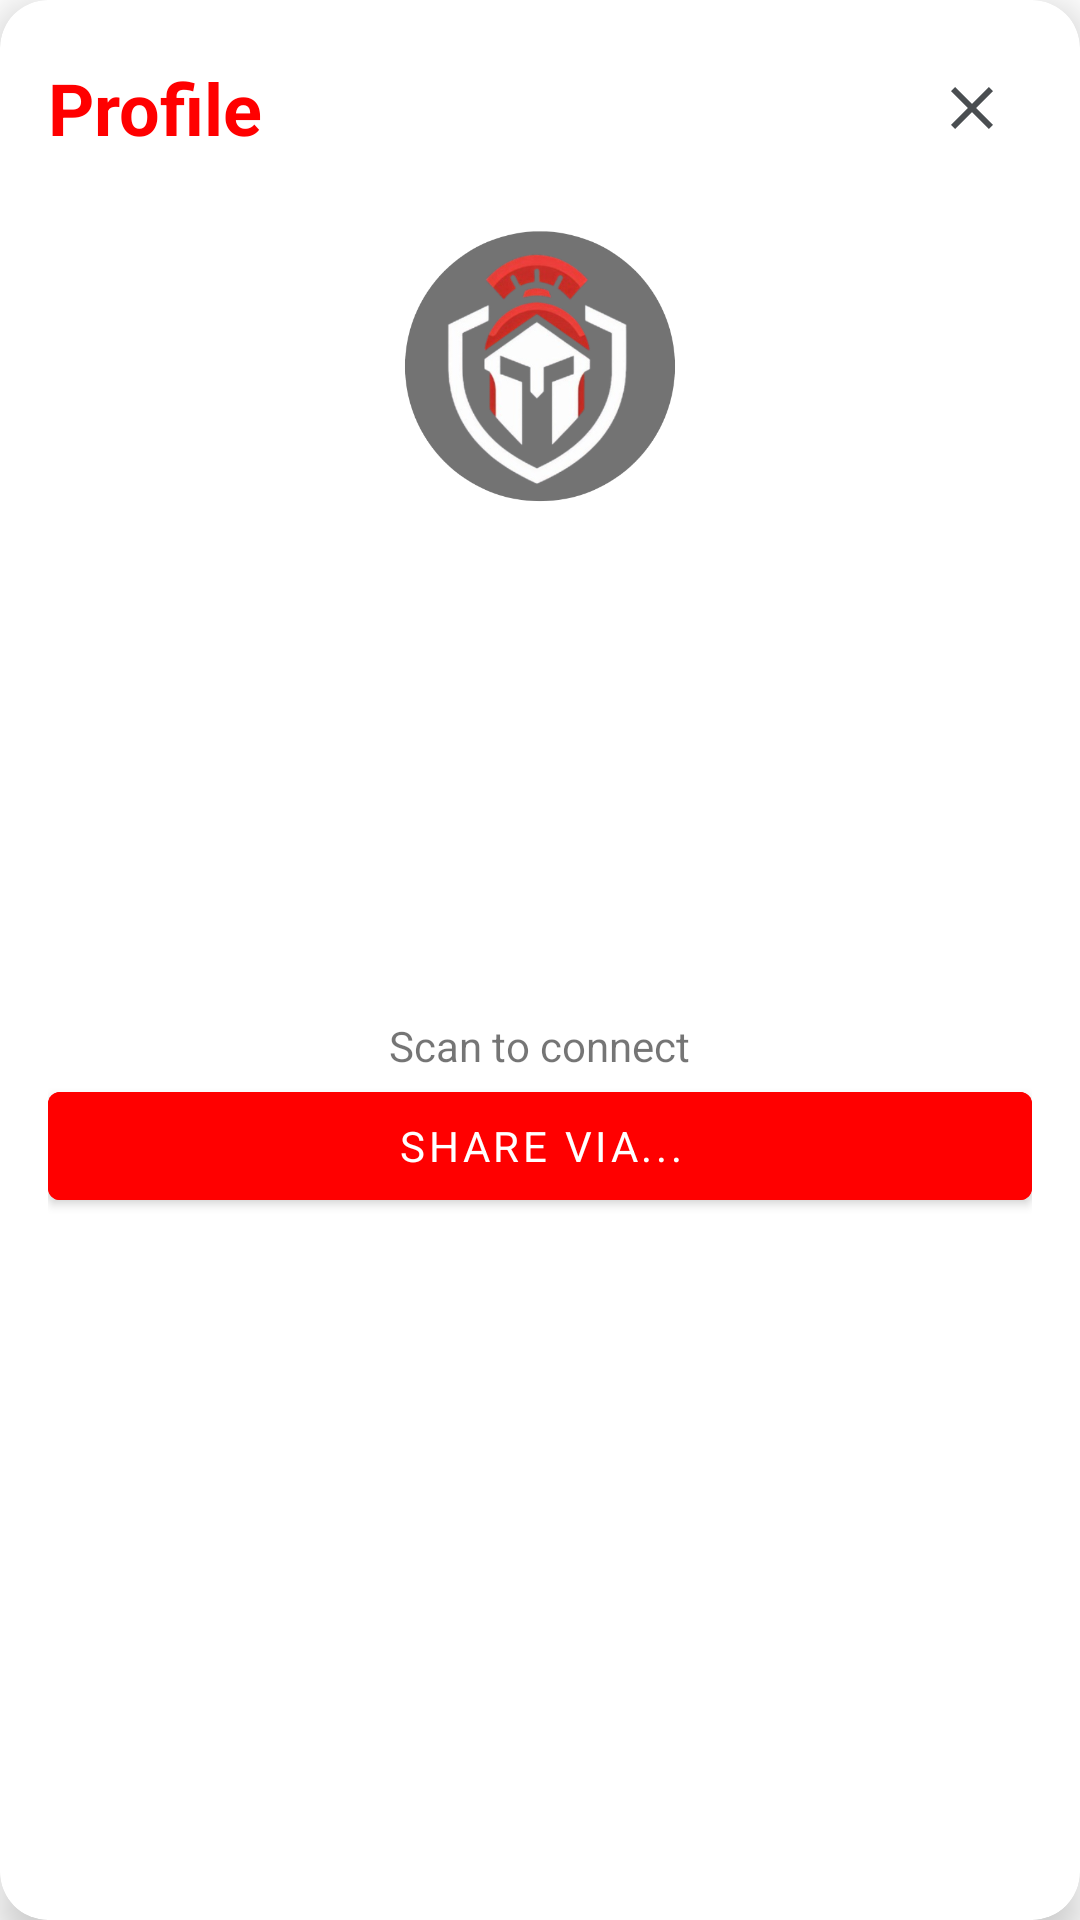

Point at icon controls on the screen. Image size 1080w x 1920h, points as point (x, y).
close: point (972, 108)
